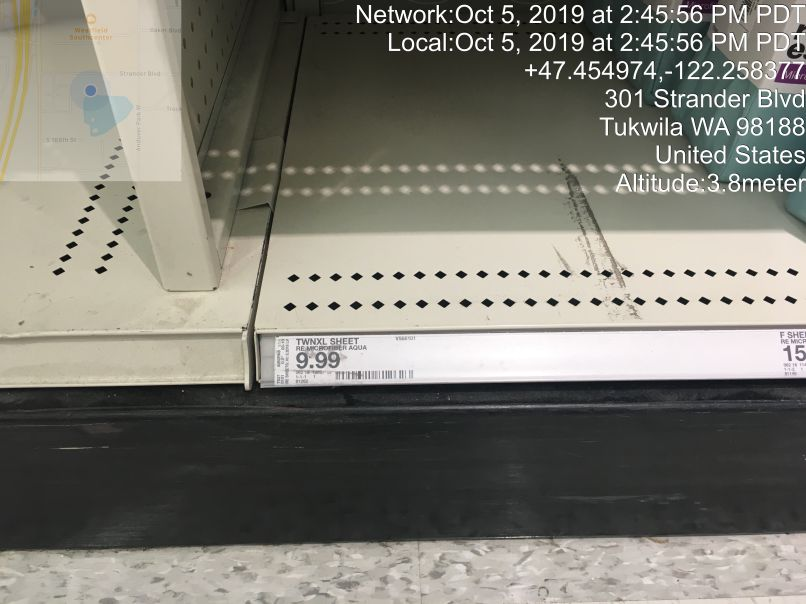Label: (275, 332, 419, 383)
Location: (590, 85, 806, 170)
Time: (341, 1, 806, 58)
Void: (283, 16, 663, 284)
